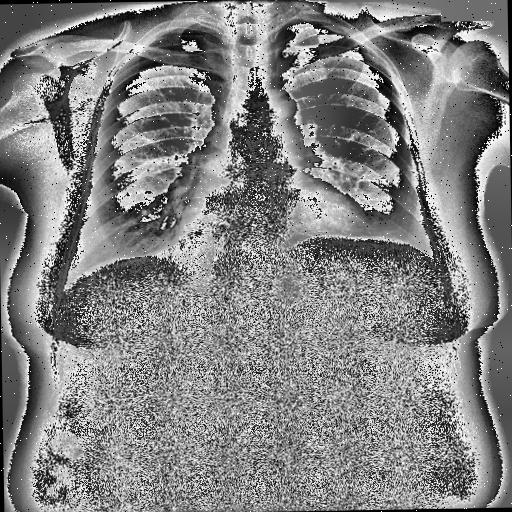0- Aortic enlargement: (248, 88, 304, 146), (261, 90, 304, 132)
11- Pleural thickening: (316, 18, 376, 50)
3- Cardiomegaly: (173, 200, 370, 266), (176, 184, 376, 236)
